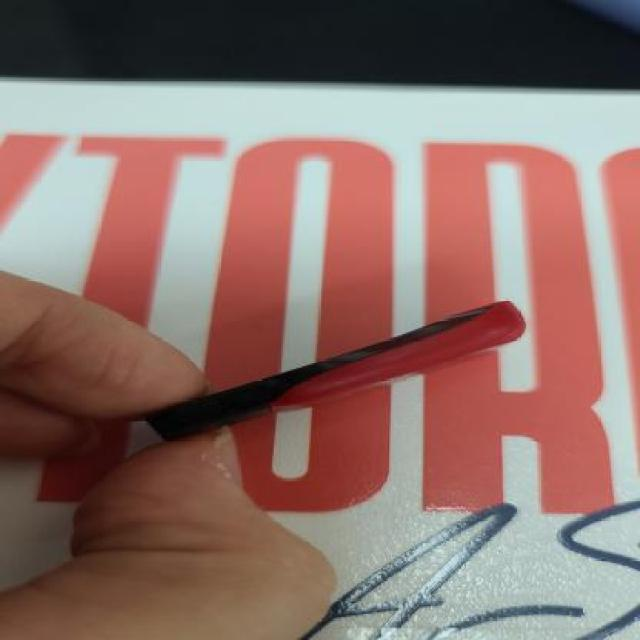Flashdisk: (141, 298, 528, 440)
